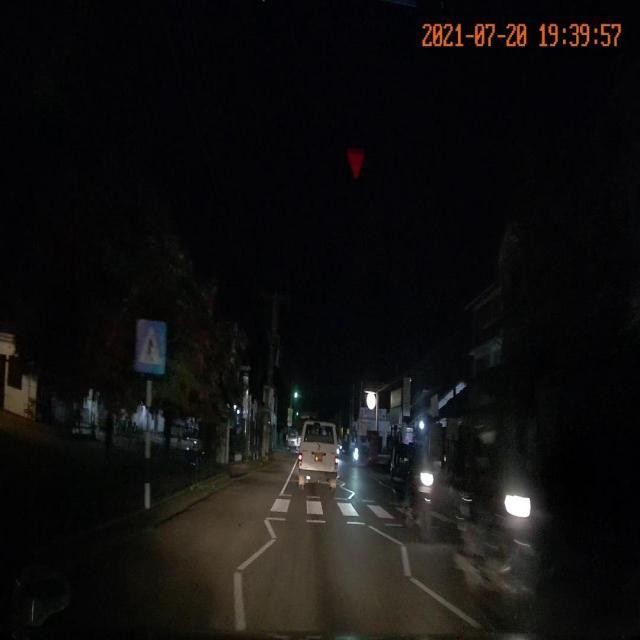Crosswalk: (262, 492, 406, 529)
